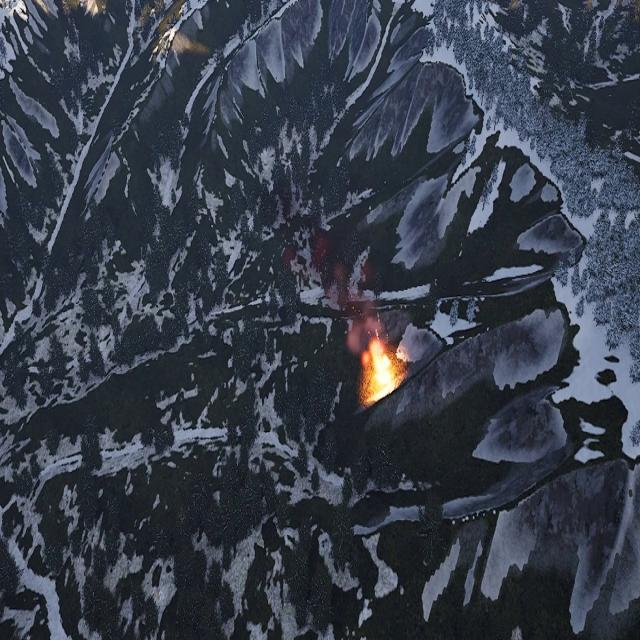fire: (364, 338, 400, 404)
smoke: (311, 224, 388, 357)
